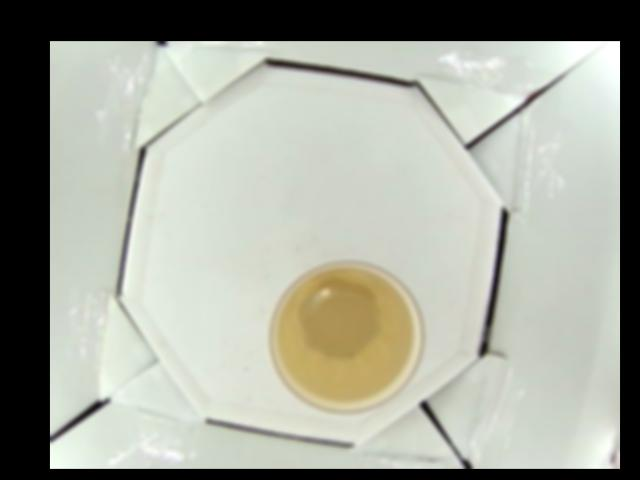Cup: (268, 258, 424, 415)
